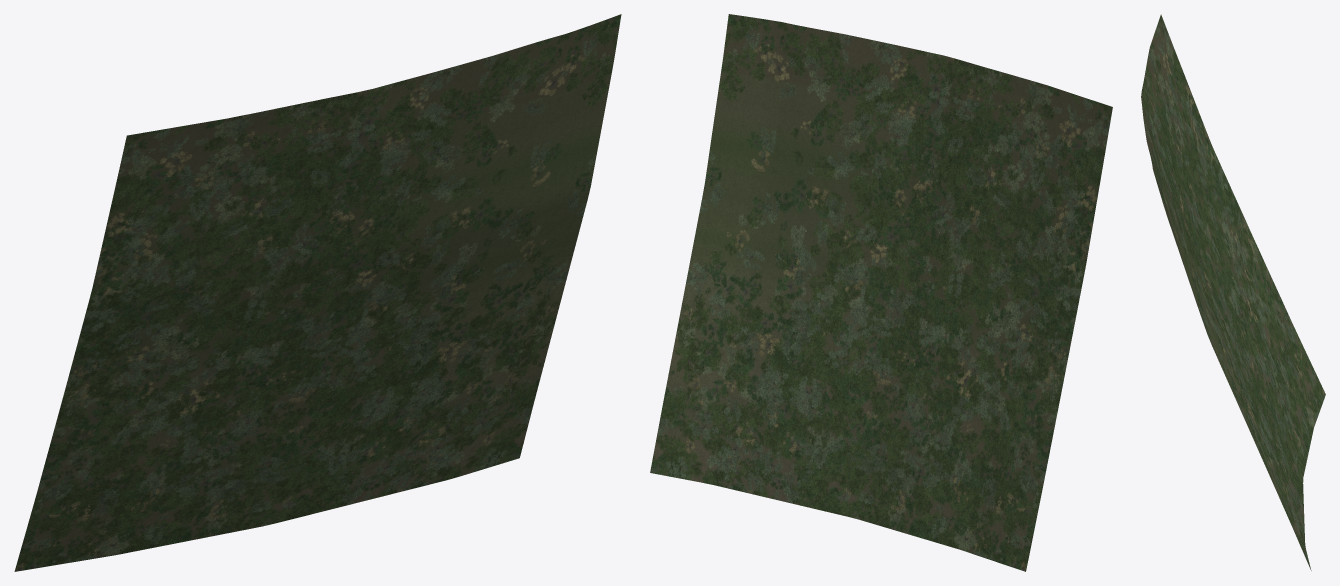
The model's file is terrain_near_02_07.obj.
The picture shows the model from 3 angles, left to right: view 1: azimuth 30°, elevation 25°; view 2: azimuth 150°, elevation 25°; view 3: azimuth 270°, elevation 25°; orthographic projection. The views are drawn at different scales.
Visible parts, largest first — view 1: terrain_near_02_07; view 2: terrain_near_02_07; view 3: terrain_near_02_07.
Part boxes in pixels (<box>): terrain_near_02_07: <box>14,14,621,571</box>; terrain_near_02_07: <box>650,14,1112,571</box>; terrain_near_02_07: <box>1141,14,1325,570</box>.
Bounding box in the file's own units: 64 × 64 × 28.18.
Materials: 1 (1 with a texture image).
